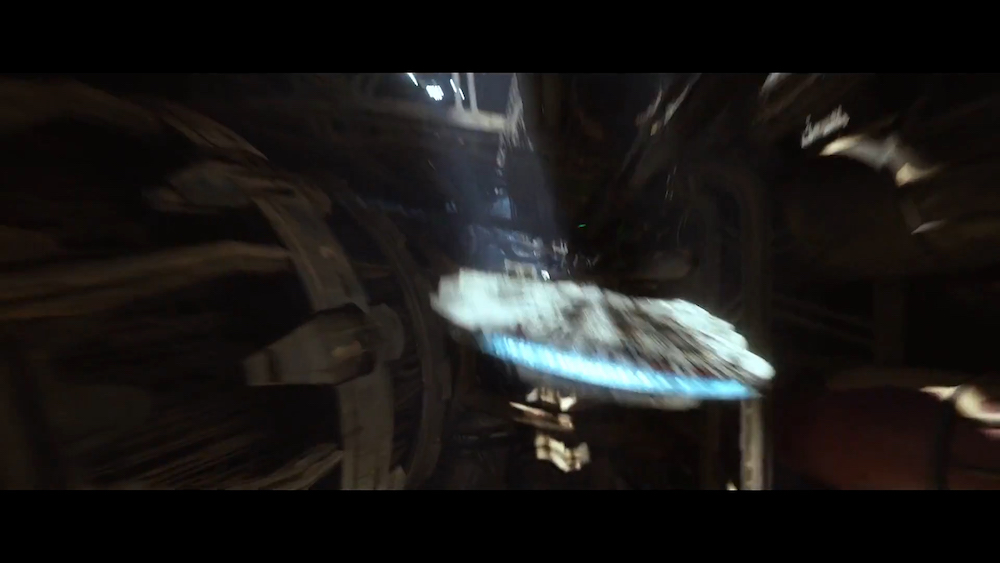Millennium Falcon: (431, 267, 777, 411)
